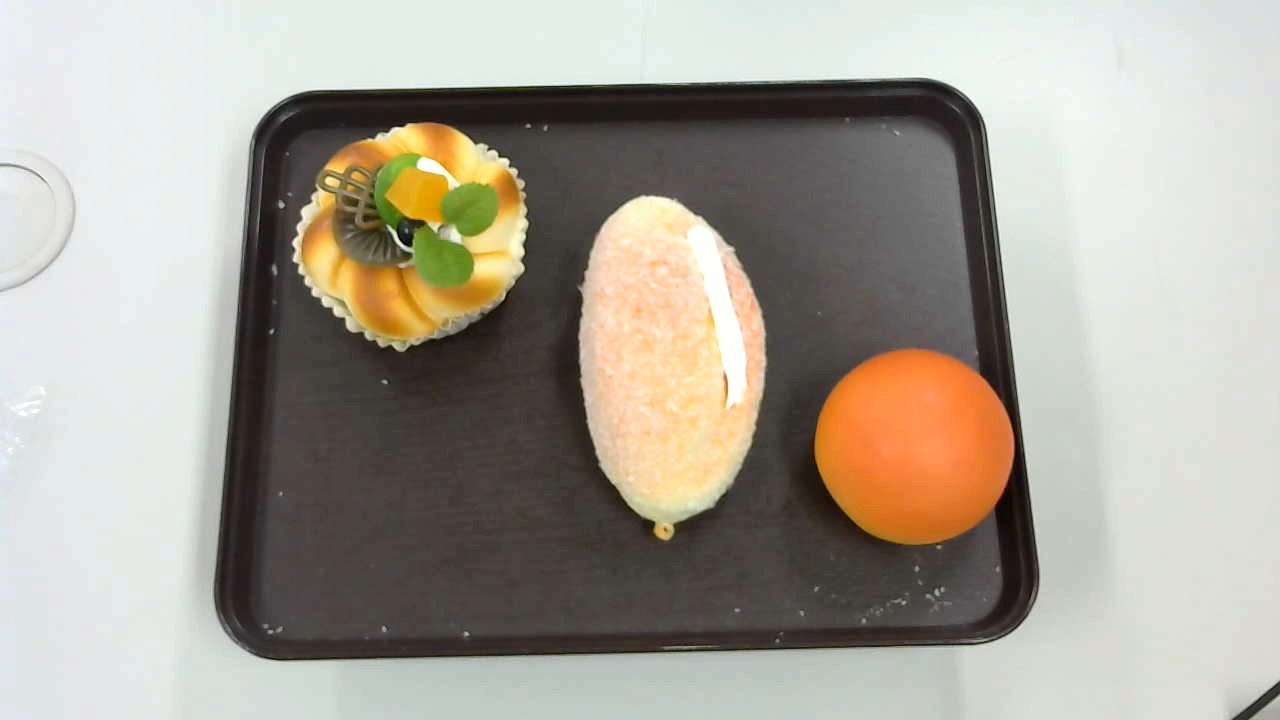bun: (814, 345, 1017, 547)
coconut: (575, 193, 770, 543)
fruit tart: (290, 124, 531, 355)
